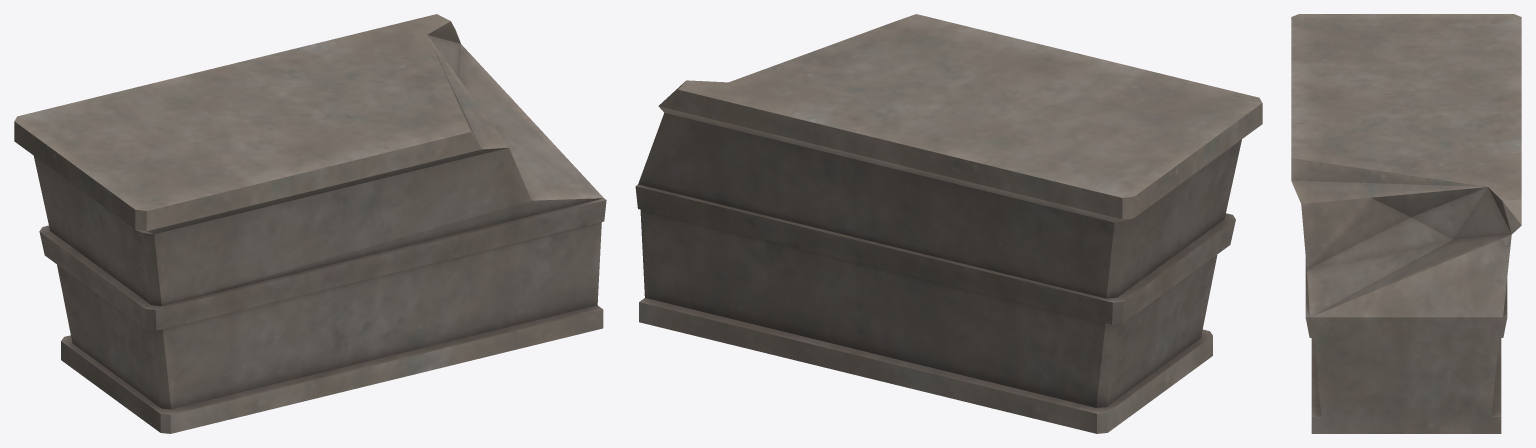
Rendered from sb_obj_outdoor009_AncientTemple_WallTopC.fbx.
3 renders of one model, left to right at view 1: azimuth 30°, elevation 25°; view 2: azimuth 150°, elevation 25°; view 3: azimuth 270°, elevation 25°, orthographic. The views are drawn at different scales.
Parts seen in each view (by area): view 1: sb_obj_outdoor009_AncientTemple_WallTopC; view 2: sb_obj_outdoor009_AncientTemple_WallTopC; view 3: sb_obj_outdoor009_AncientTemple_WallTopC.
Part boxes in pixels (x1,y1,x2,y2): sb_obj_outdoor009_AncientTemple_WallTopC: (14,14,606,433); sb_obj_outdoor009_AncientTemple_WallTopC: (635,14,1262,433); sb_obj_outdoor009_AncientTemple_WallTopC: (1291,14,1521,433).
Size of the model in its own units: 4.11 by 1.98 by 1.94.
